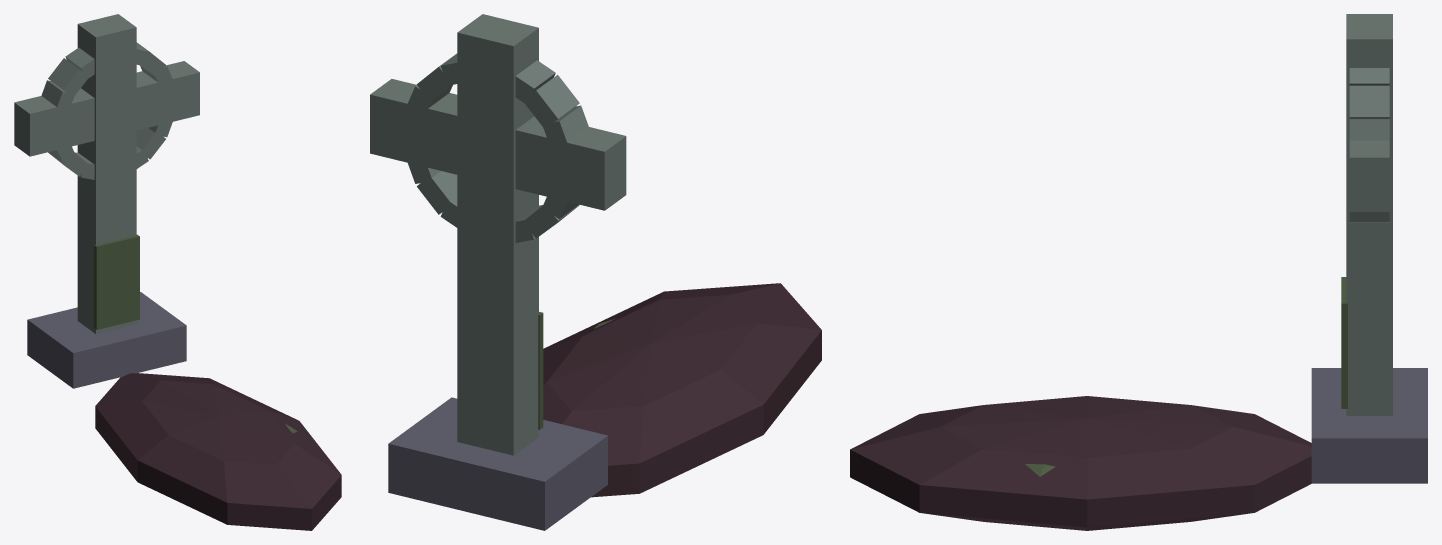
The model's file is mormant_2.glb.
3 views of the same model, side by side, from view 1: azimuth 30°, elevation 25°; view 2: azimuth 150°, elevation 25°; view 3: azimuth 270°, elevation 25° (orthographic). The views are drawn at different scales.
Parts seen in each view (by area): view 1: Mormant; view 2: Mormant; view 3: Mormant.
Part boxes in pixels (x1,y1,x2,y2): Mormant: (14,14,341,530); Mormant: (370,14,821,530); Mormant: (850,14,1427,530).
Bounding box in the file's own units: 0.75 × 1.6 × 1.74.
